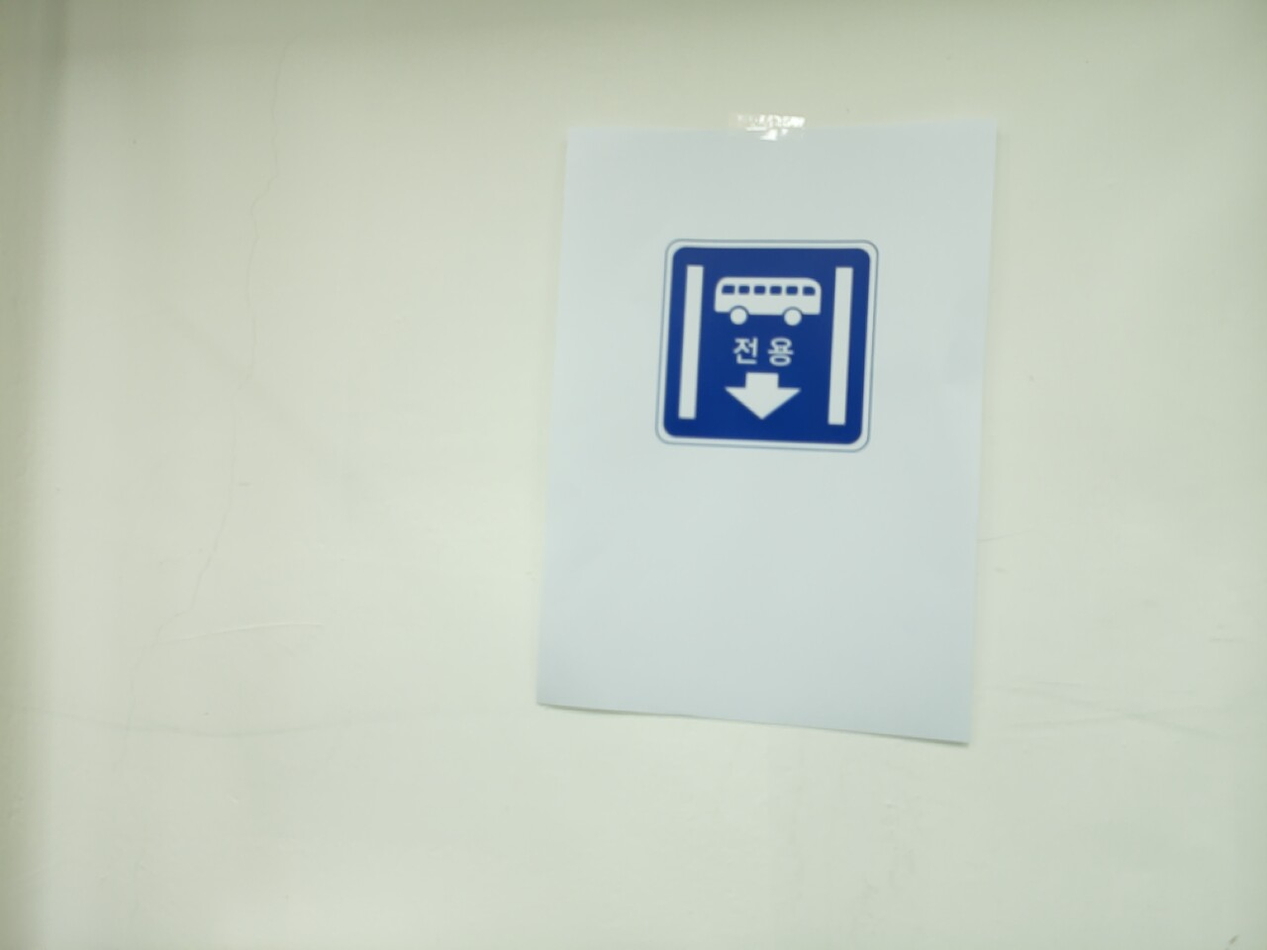bus_only_lane: (655, 238, 878, 452)
